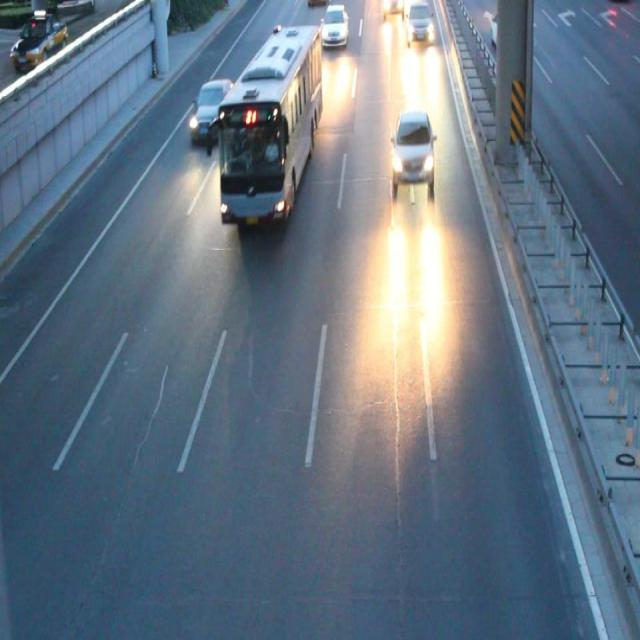car: (392, 111, 434, 186), (190, 80, 236, 142), (403, 1, 433, 44), (320, 2, 348, 48), (490, 9, 520, 50), (381, 1, 403, 19)
van: (218, 27, 322, 225)
